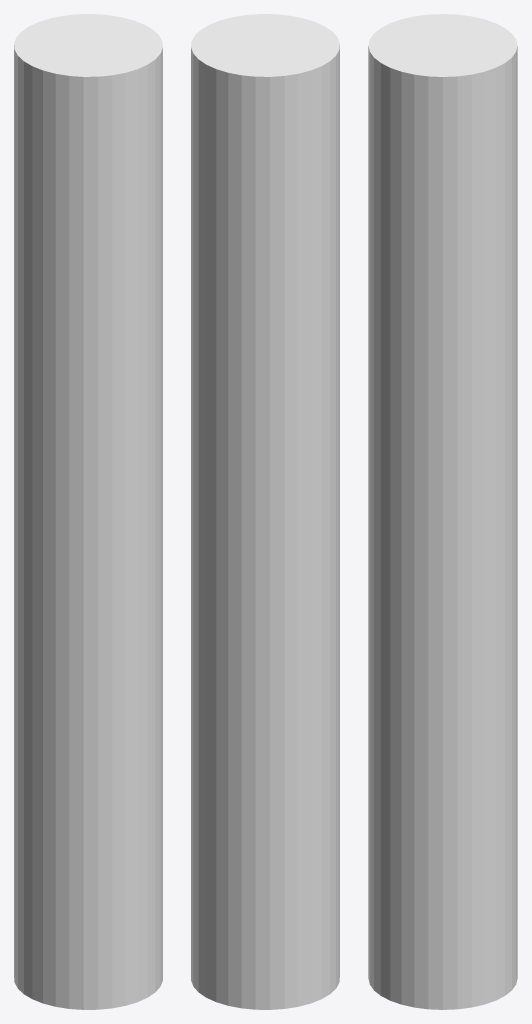
Rendered from arrow2.obj.
The picture shows the model from 3 angles, left to right: view 1: azimuth 30°, elevation 25°; view 2: azimuth 150°, elevation 25°; view 3: azimuth 270°, elevation 25°; orthographic projection.
Visible parts, largest first — view 1: Cylinder_Cylinder.001; view 2: Cylinder_Cylinder.001; view 3: Cylinder_Cylinder.001.
Boxes of the visible parts, box(x1,y1,x2,y2) form: Cylinder_Cylinder.001: box(14, 14, 162, 1009); Cylinder_Cylinder.001: box(191, 14, 339, 1009); Cylinder_Cylinder.001: box(368, 14, 517, 1009).
Bounding box in the file's own units: 0.4 × 2.76 × 0.4.
